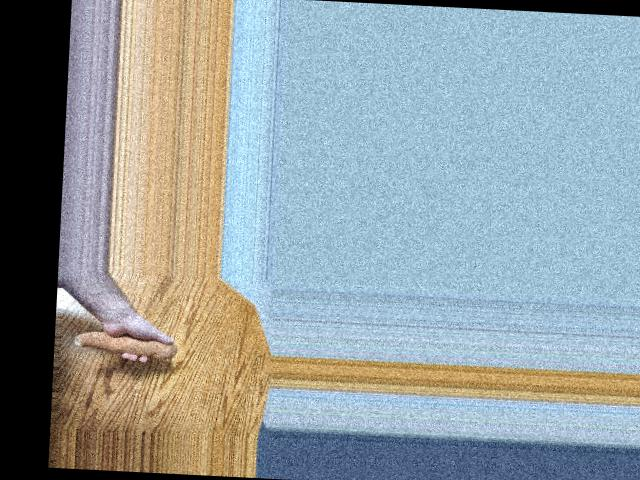sweet_potato: (70, 322, 179, 361)
